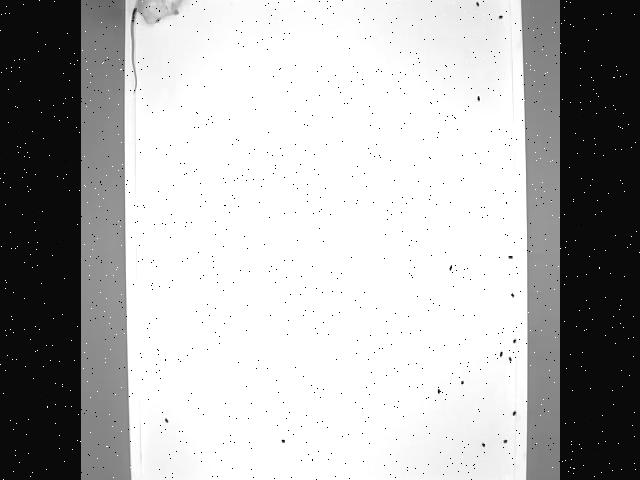Tikus: (125, 0, 190, 91)
